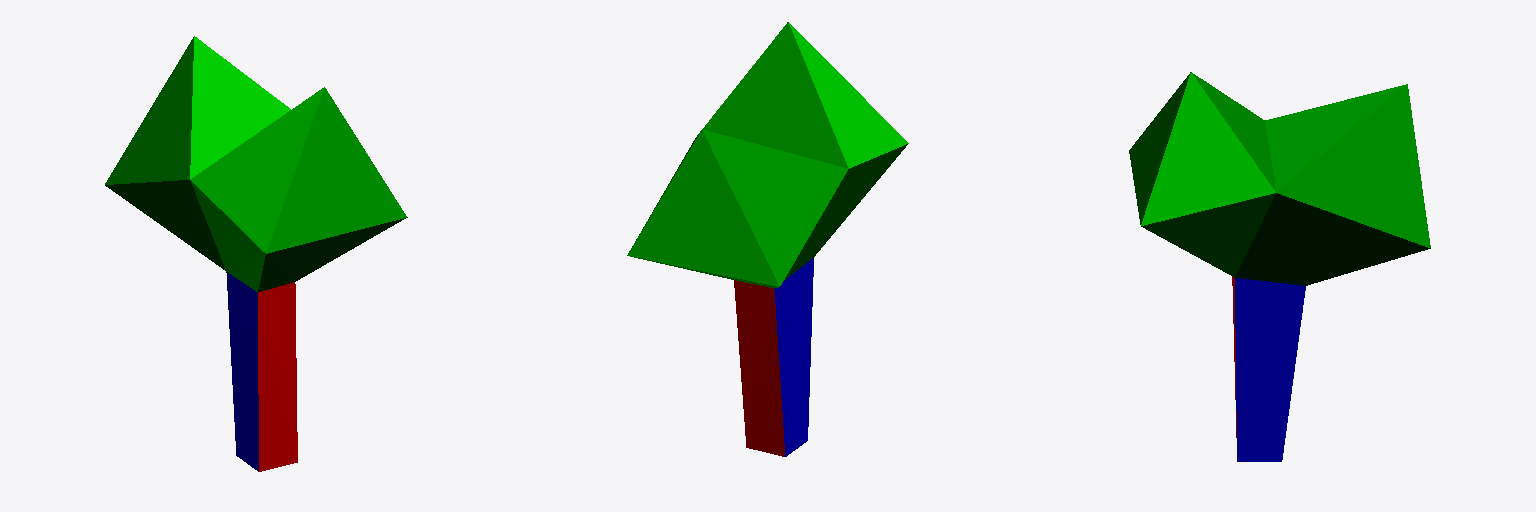
Rendered from big_tree.obj.
3 views of the same model, side by side, from view 1: azimuth 30°, elevation 25°; view 2: azimuth 150°, elevation 25°; view 3: azimuth 270°, elevation 25° (orthographic).
Parts seen in each view (by area): view 1: Cube.002; view 2: Cube.002; view 3: Cube.002.
Part boxes in pixels (x1,y1,x2,y2): Cube.002: (105,36,407,471); Cube.002: (627,22,908,456); Cube.002: (1129,72,1430,461).
Size of the model in its own units: 55.36 by 127 by 88.47.